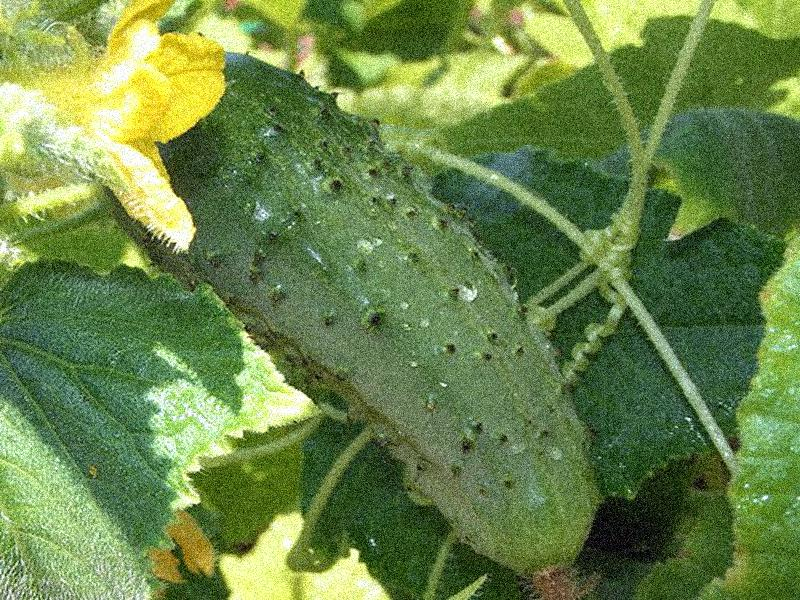Cucumber: (101, 51, 600, 598)
